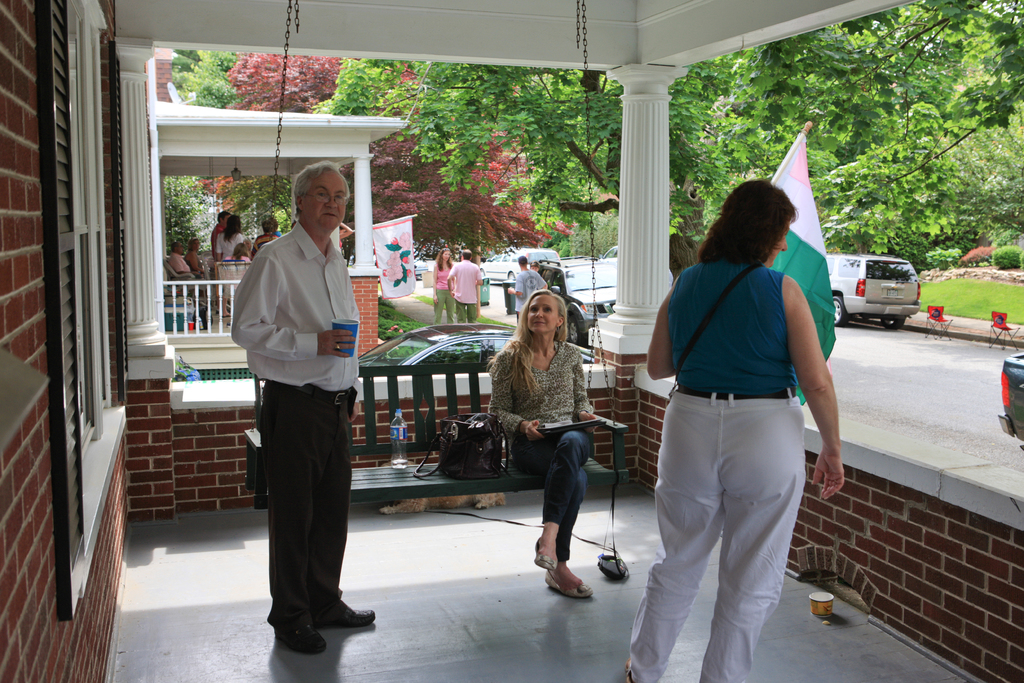Car: (353, 321, 595, 375), (535, 250, 617, 353), (836, 251, 932, 329), (476, 246, 562, 285), (999, 349, 1023, 445), (412, 253, 428, 279), (596, 245, 616, 262)
